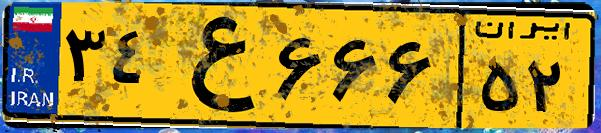2: (525, 38, 570, 115)
3: (57, 26, 110, 100)
4: (110, 28, 158, 98)
5: (475, 38, 525, 113)
6: (270, 28, 330, 110), (385, 28, 445, 110), (330, 28, 385, 110)
ع: (158, 12, 270, 120)
